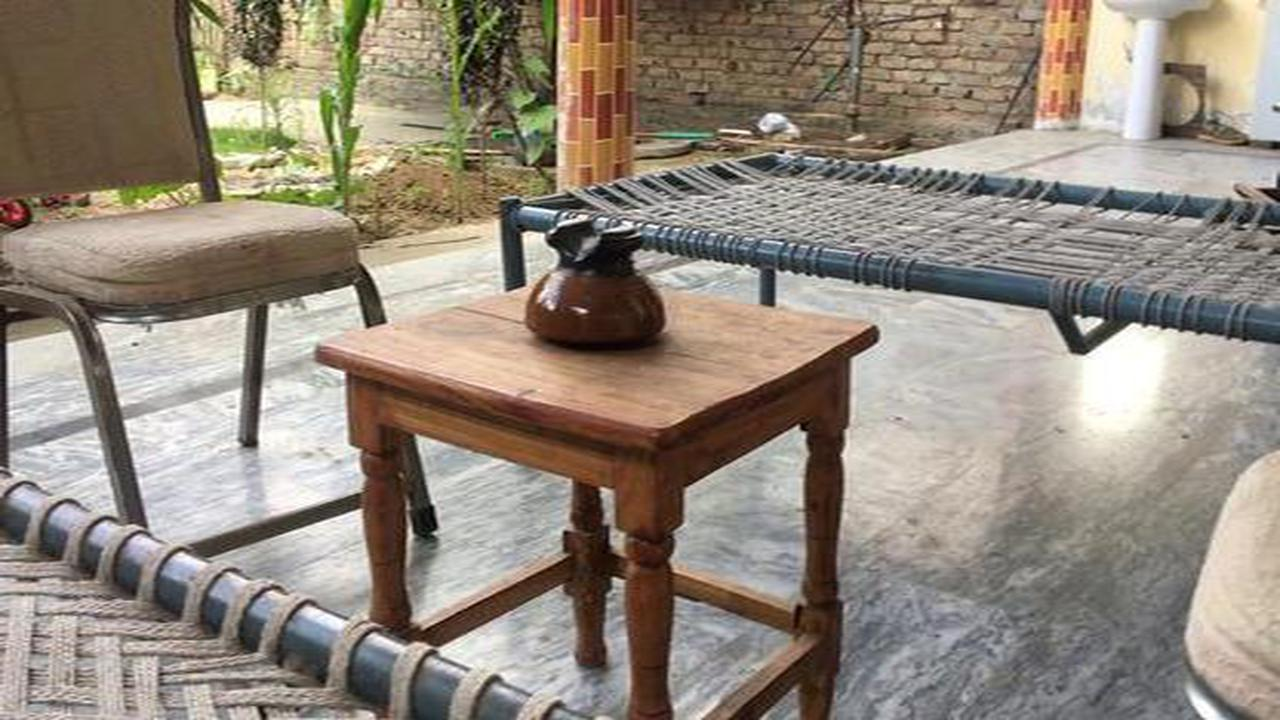insulator_pin: (502, 203, 677, 371)
